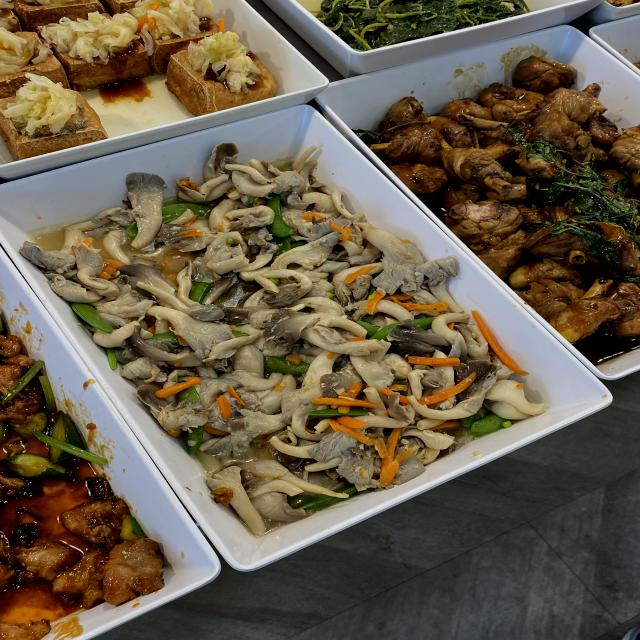Fushan-lettuceStir-fried Sweet Beans with Oyster Mushrooms: (129, 247, 422, 396)
three-cup chicken: (454, 108, 616, 234)
